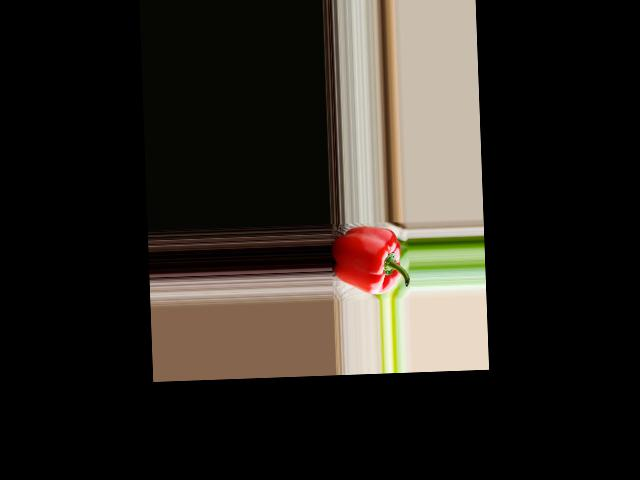bell_pepper: (329, 226, 408, 297)
